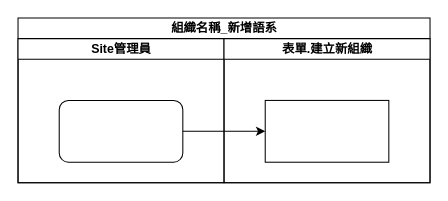
The diagram is 448 pixels wide and 201 high, and some of its shapes have lost their labels. The shapes that lost their labels are listed below. From the top down, each one's centre as x and y in pixels, then its label:
At [120,130]: "點擊按鈕.新增語系".
At [326,130]: "新增一筆 空白語系名稱".
